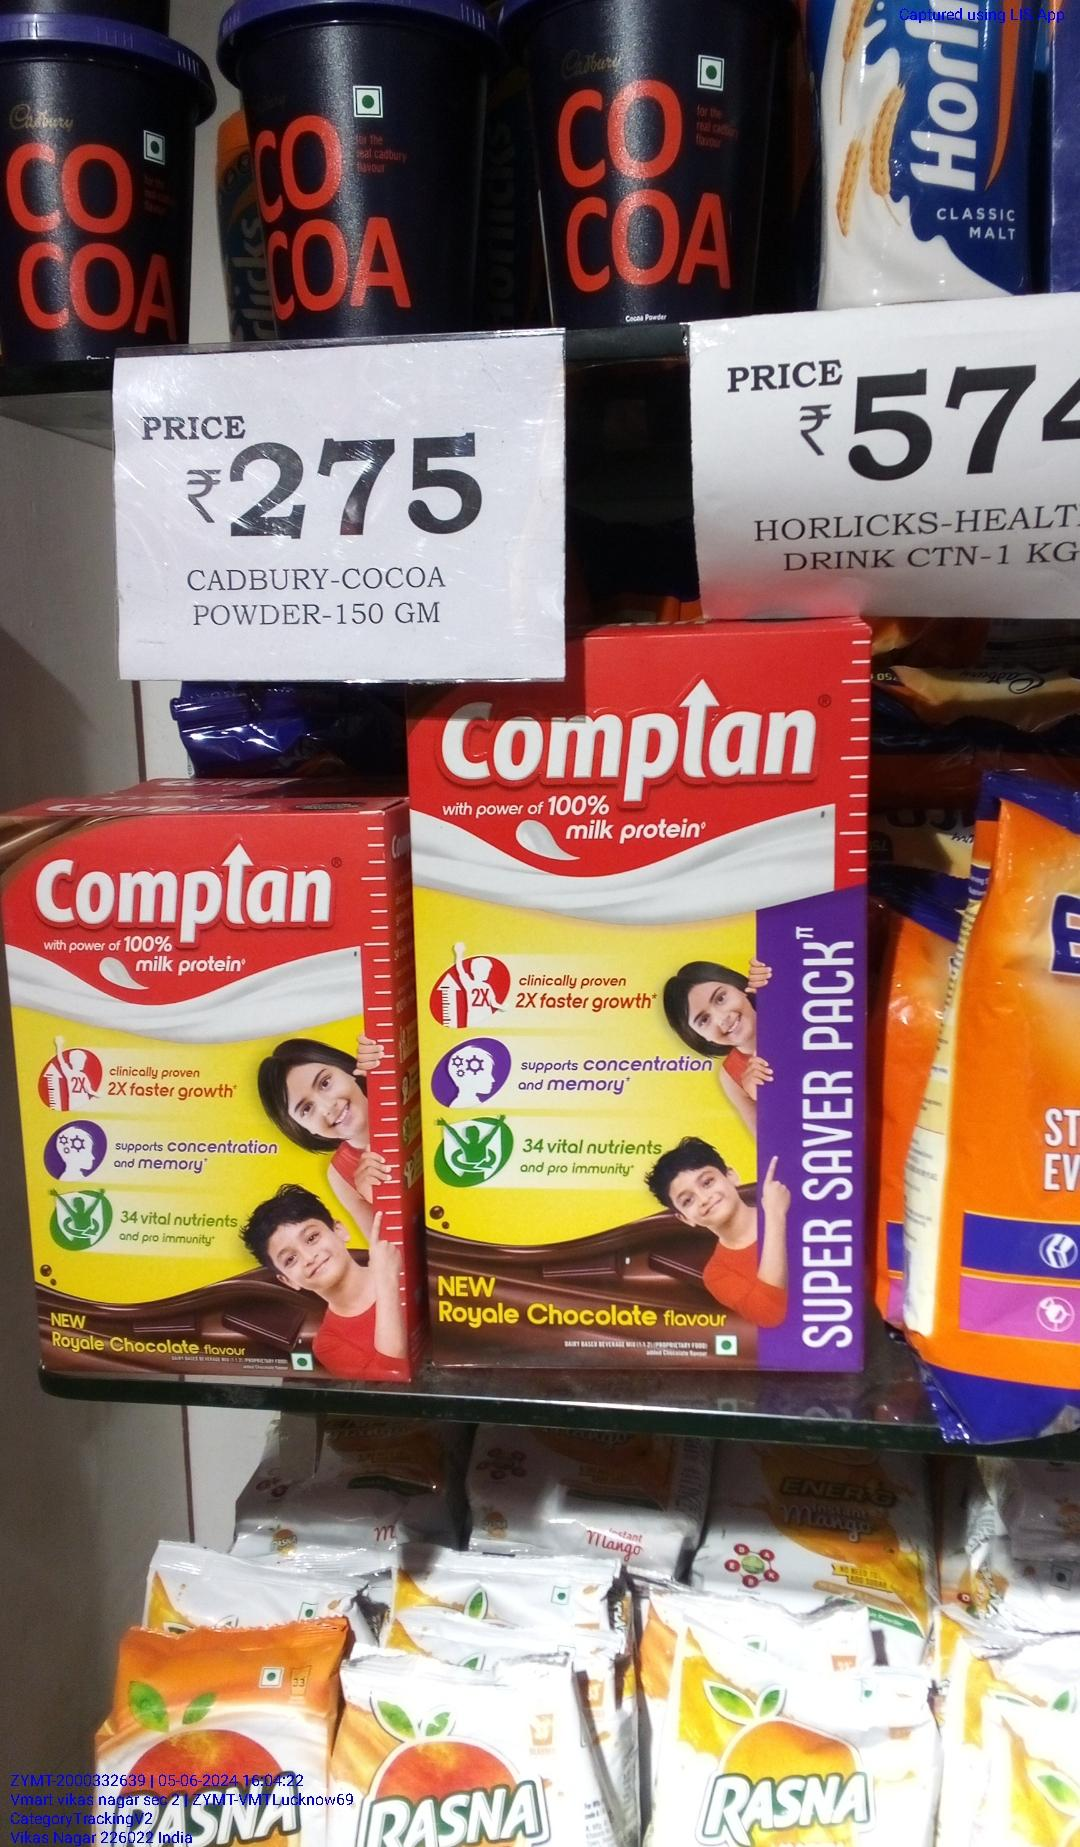COMPLAN_CHOCOLATE_1_KG_PACK: (419, 652, 878, 1360)
COMPLAN_CHOCOLATE_500_GMS_PACK: (1, 801, 414, 1387)
